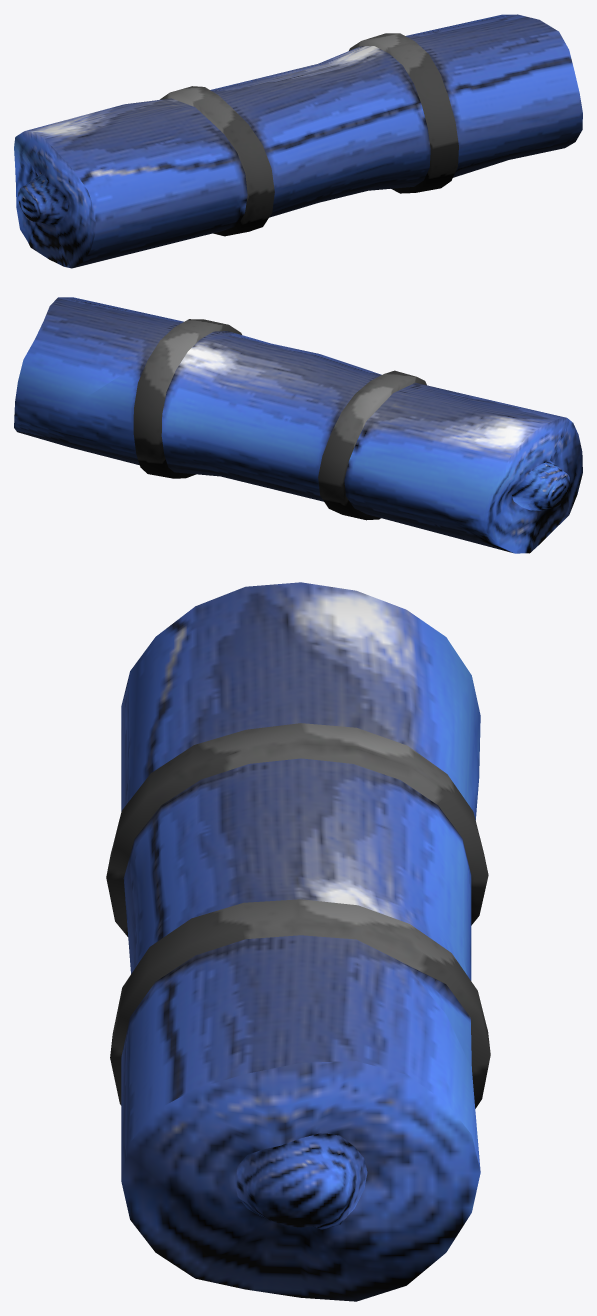
The model's file is Tarp.fbx.
3 views of the same model, one above another, from view 1: azimuth 30°, elevation 25°; view 2: azimuth 150°, elevation 25°; view 3: azimuth 270°, elevation 25° (orthographic). The views are drawn at different scales.
Visible parts, largest first — view 1: TarpRoll:pCylinder6; view 2: TarpRoll:pCylinder6; view 3: TarpRoll:pCylinder6.
Boxes of the visible parts, <box> form: TarpRoll:pCylinder6: <box>14,14,582,268</box>; TarpRoll:pCylinder6: <box>14,297,582,553</box>; TarpRoll:pCylinder6: <box>106,582,490,1301</box>.
Bounding box in the file's own units: 122 × 30.95 × 38.82.
